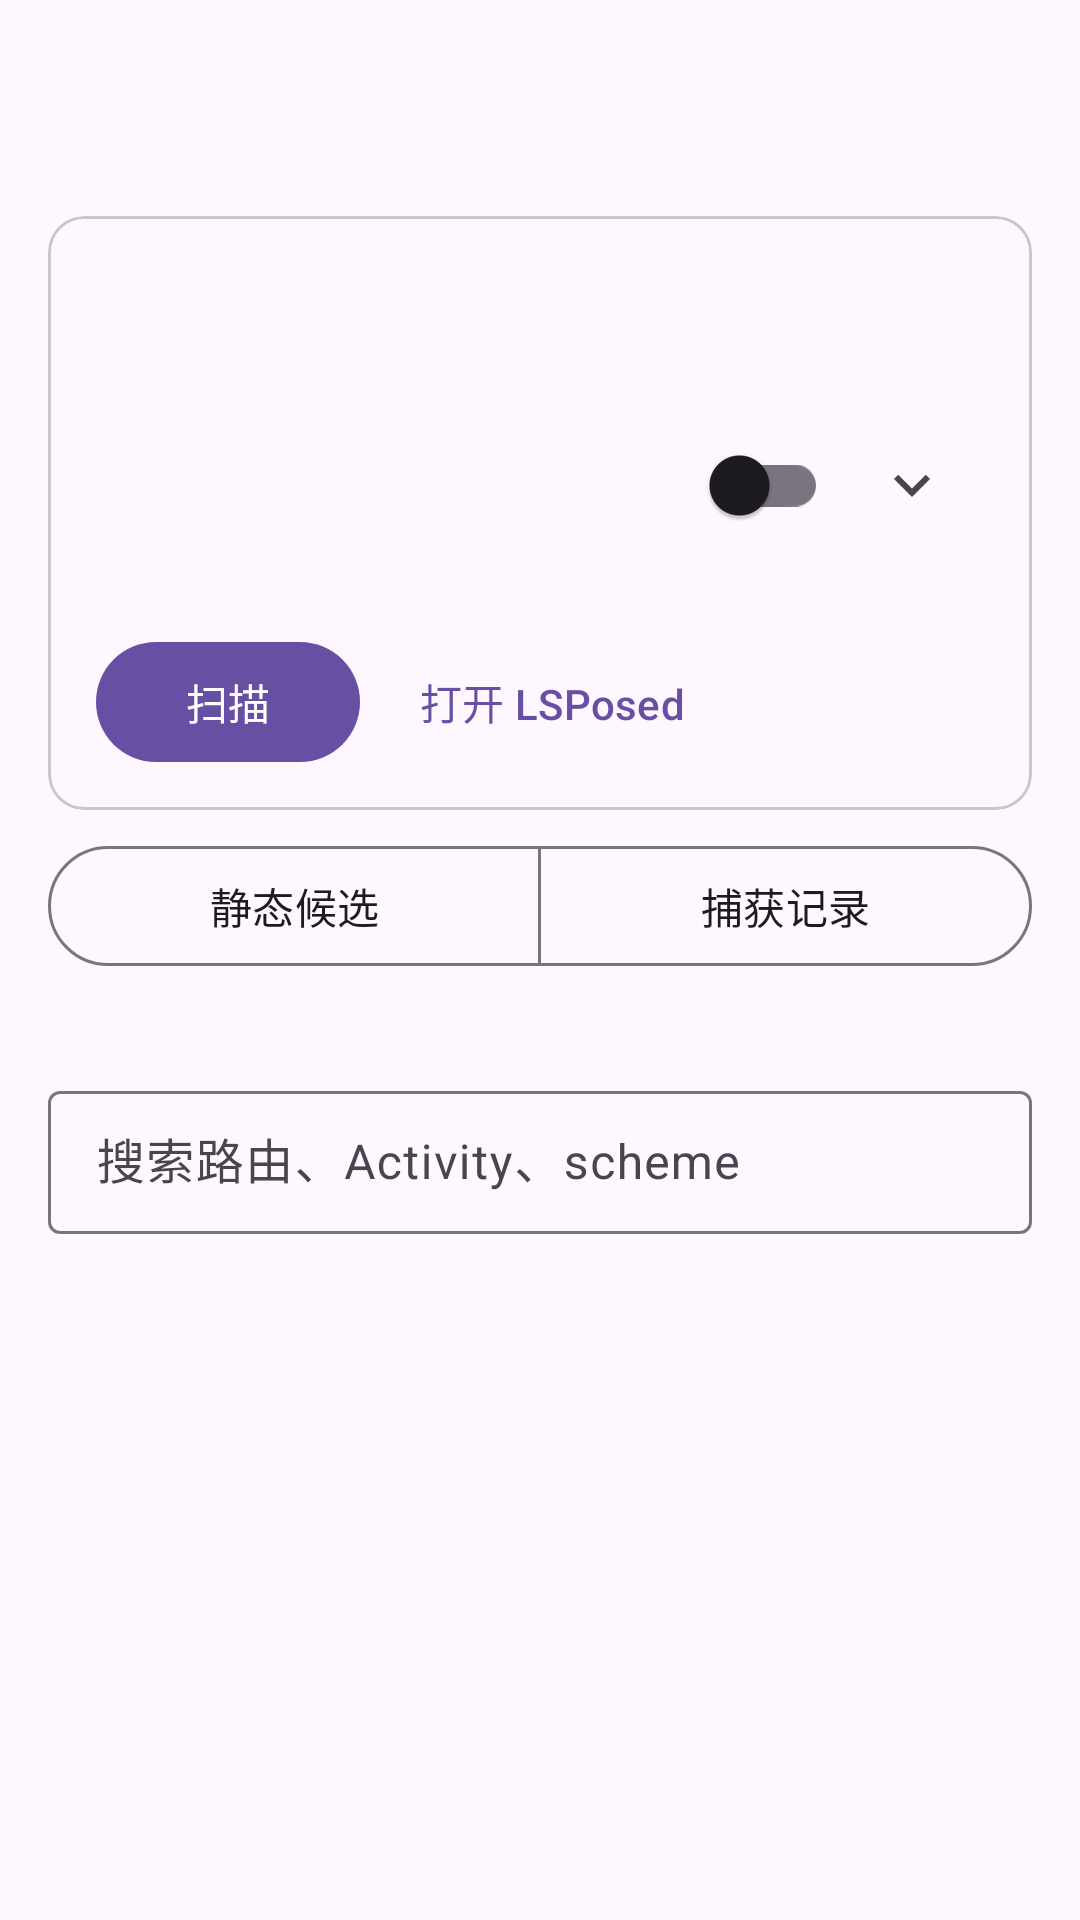

Icon bounding boxes for this 1080×1920 phone screenshot, format region(x1, y1, x2, y2):
展开详情: region(894, 475, 930, 497)
